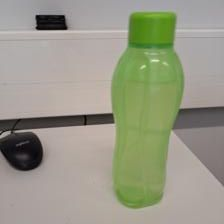bottle: (106, 11, 187, 211)
